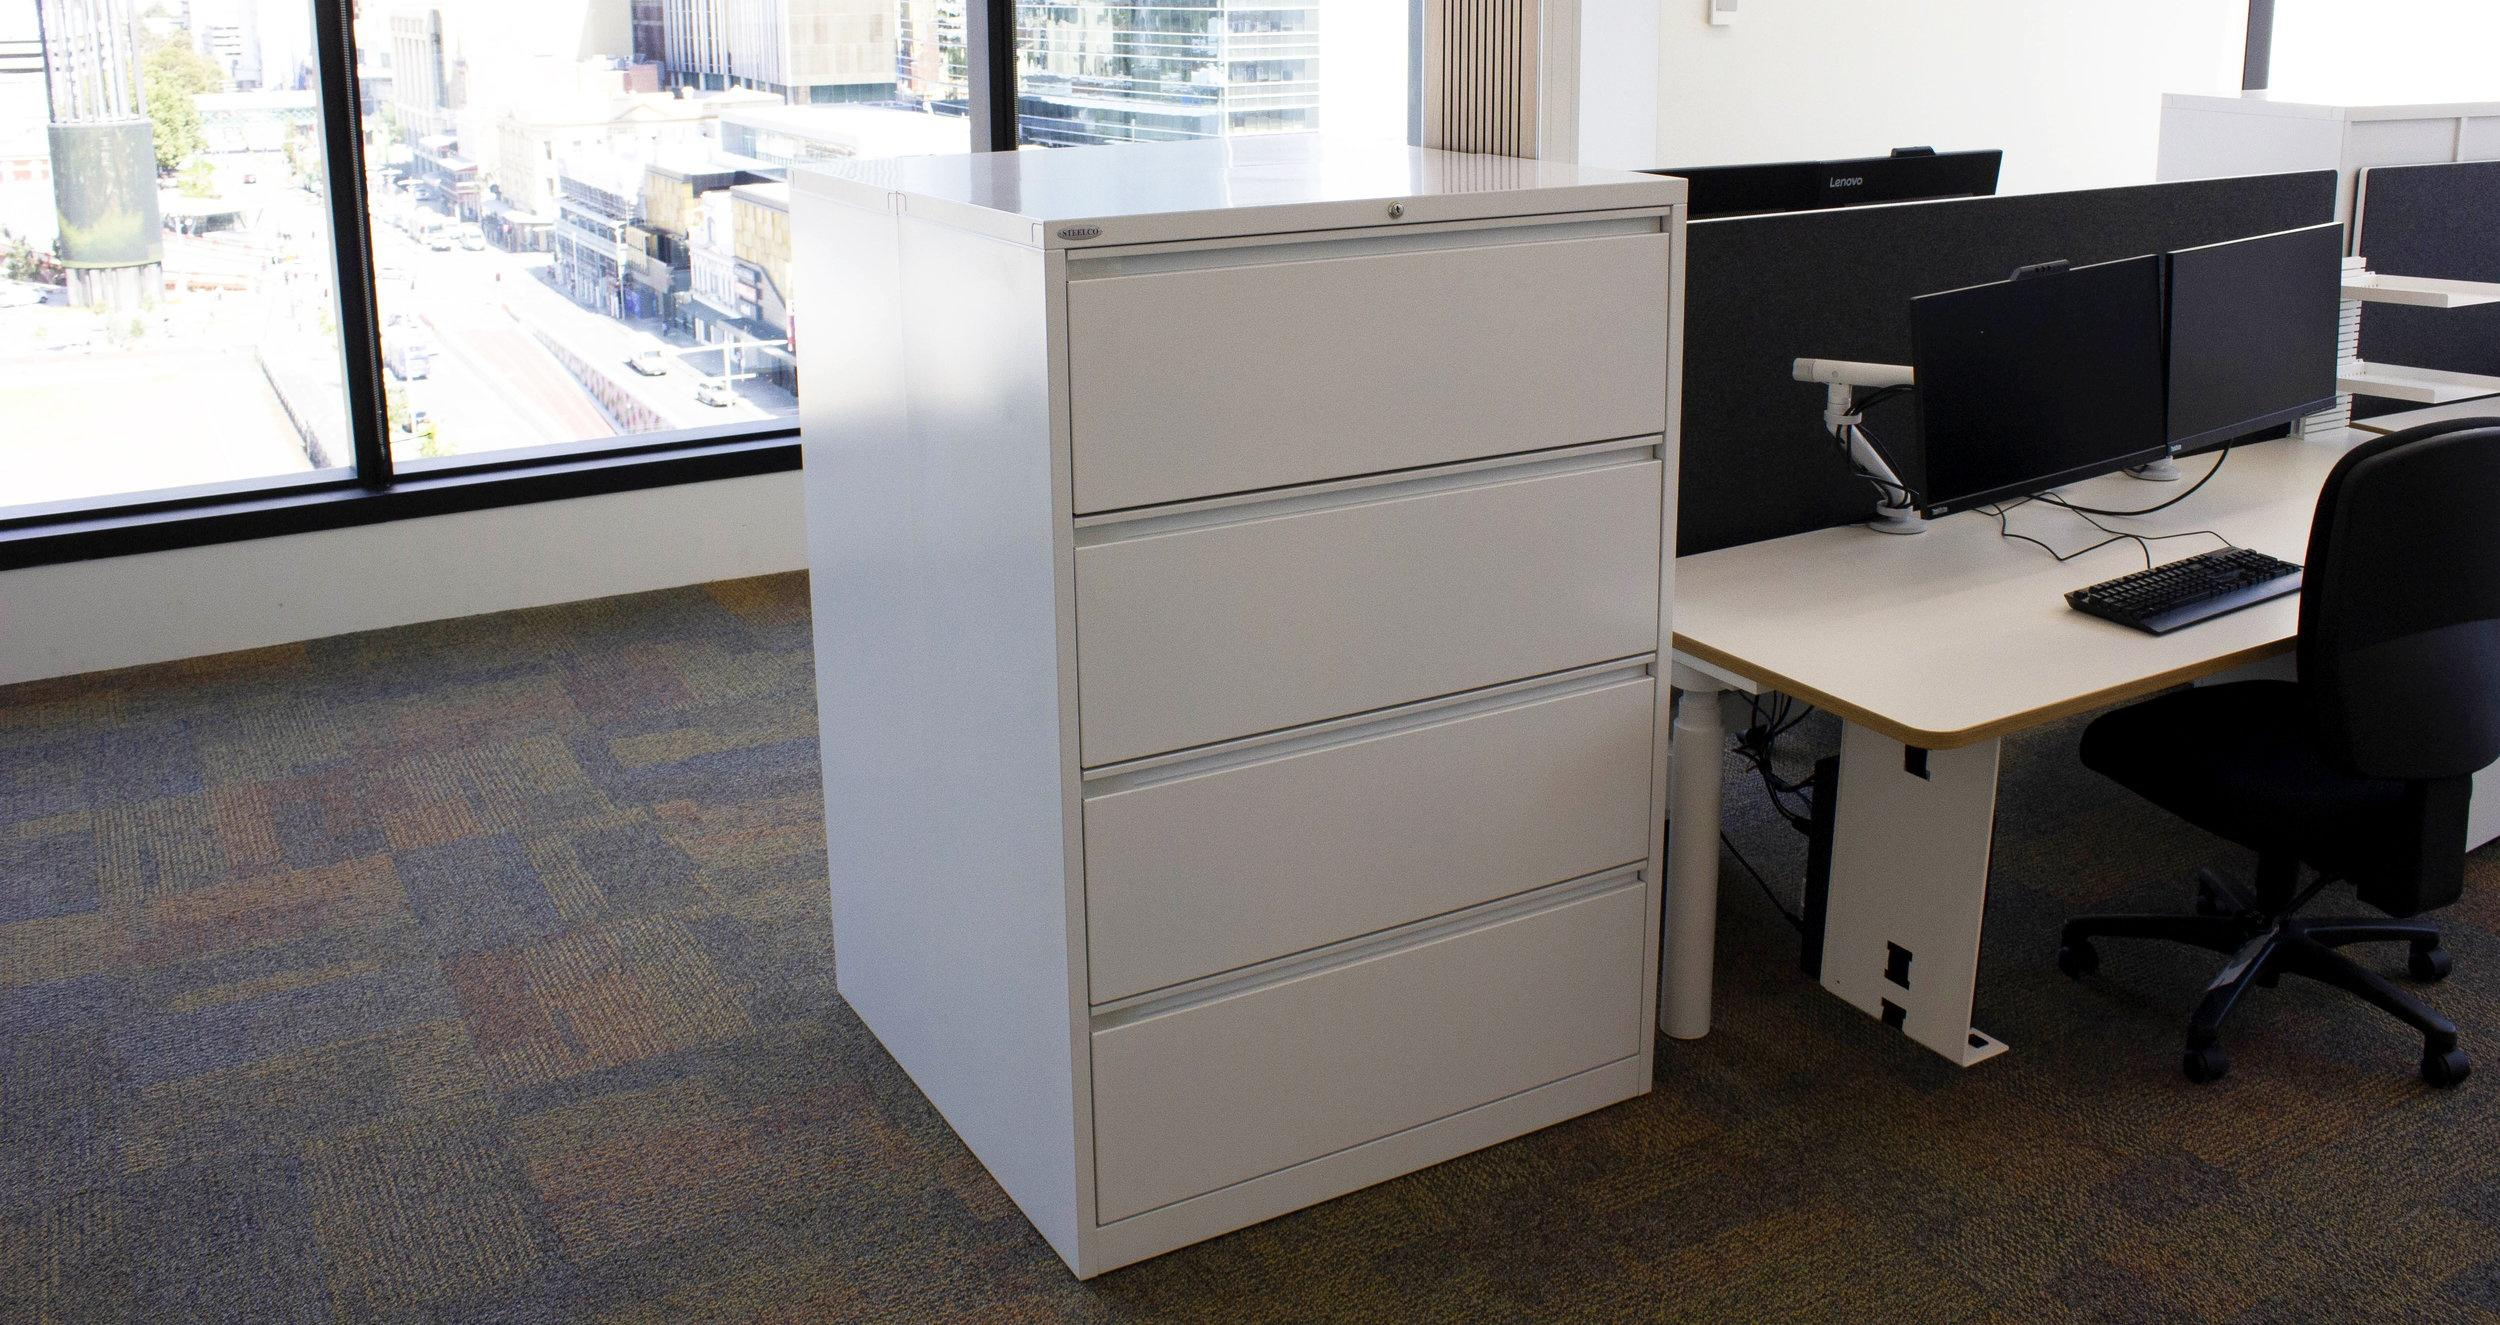AIO PC-Monitor-TV: (1904, 249, 2167, 518), (2163, 218, 2344, 456)
Filing Cabinet: (1040, 179, 1690, 1282)
Kursi: (2060, 417, 2499, 1084)
Meja: (1668, 435, 2340, 762)
